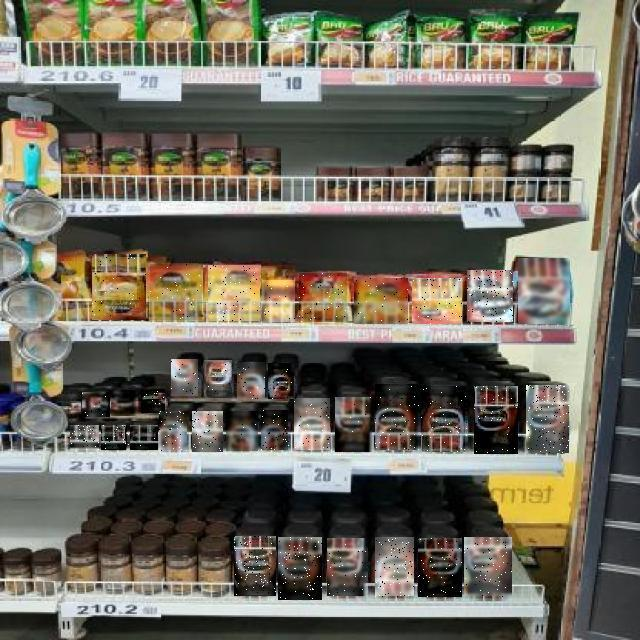Coffee: (92, 254, 146, 320), (519, 258, 571, 324), (422, 386, 468, 452), (474, 386, 518, 454), (526, 385, 569, 453), (150, 265, 202, 321), (208, 265, 260, 321), (376, 385, 420, 451), (465, 538, 513, 598), (278, 537, 322, 600), (418, 538, 462, 597), (235, 536, 277, 596), (354, 278, 408, 324), (467, 270, 513, 322), (299, 273, 347, 322), (375, 538, 414, 598), (328, 538, 368, 596), (412, 278, 462, 324), (336, 397, 374, 452), (295, 399, 331, 451), (262, 280, 295, 322), (227, 411, 259, 451), (192, 411, 223, 452), (262, 410, 290, 450), (159, 412, 187, 452), (172, 360, 200, 398), (237, 362, 265, 400), (205, 360, 233, 398), (268, 363, 294, 399), (70, 426, 99, 452), (82, 392, 110, 417), (102, 425, 130, 450), (130, 425, 158, 450), (112, 390, 138, 416), (141, 389, 165, 413)
